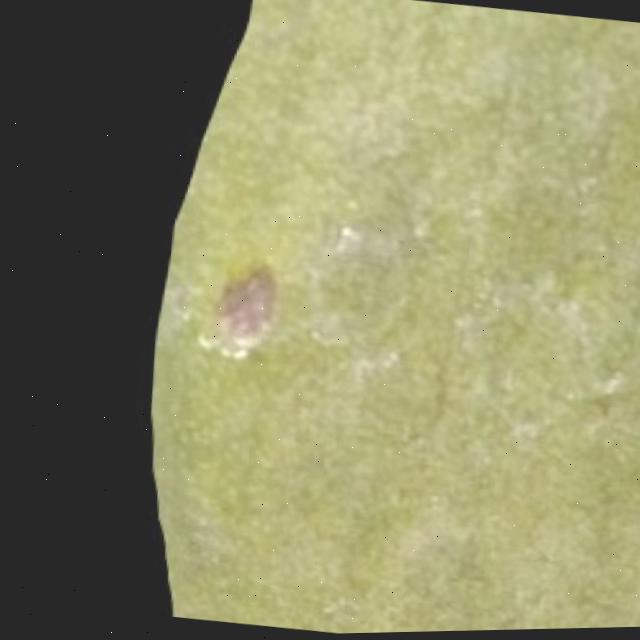mite: (16, 0, 263, 623), (323, 214, 398, 271)
sunburn: (188, 250, 282, 369)
